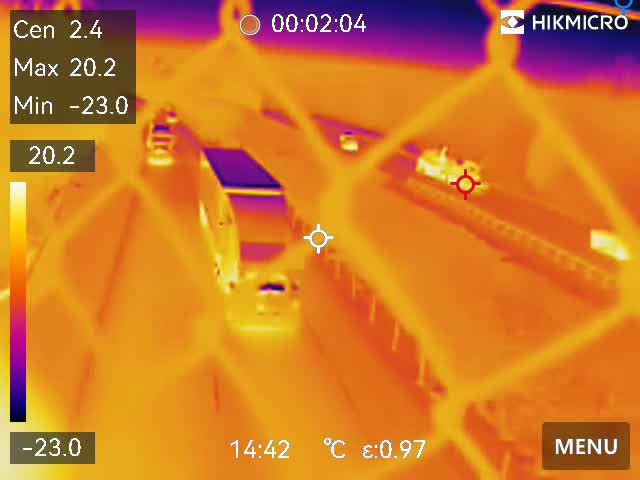heavyTruck: (193, 141, 304, 344), (413, 142, 491, 193), (145, 115, 175, 174)
vehicle: (341, 135, 358, 152)
